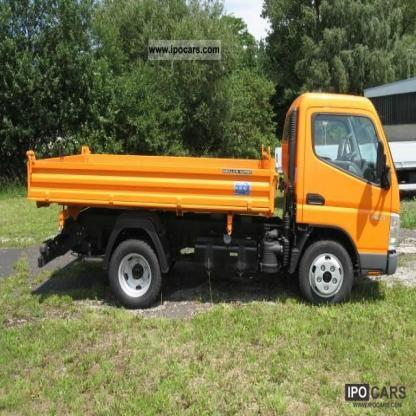truck: (26, 95, 401, 306)
